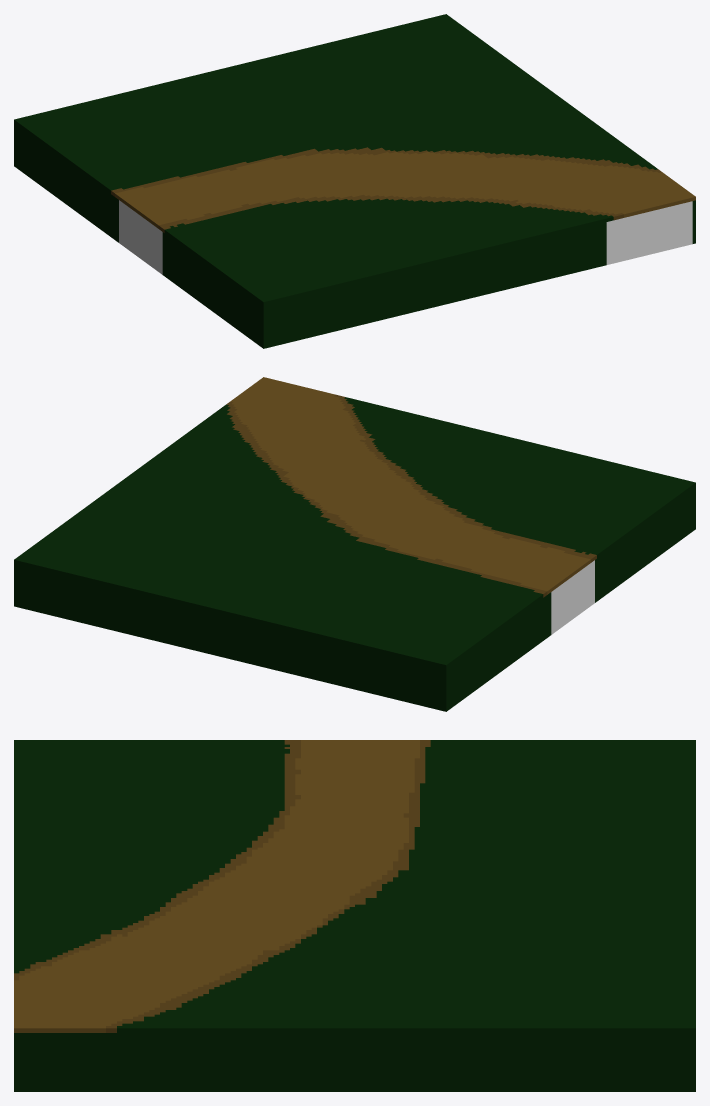
File: map-34.obj
3 renders of one model, top to bottom at view 1: azimuth 30°, elevation 25°; view 2: azimuth 150°, elevation 25°; view 3: azimuth 270°, elevation 25°, orthographic. The views are drawn at different scales.
Visible parts, largest first — view 1: map-34; view 2: map-34; view 3: map-34.
Part boxes in pixels (left/top/right/bottom): map-34: left=14, top=14, right=695, bottom=348; map-34: left=14, top=377, right=695, bottom=711; map-34: left=14, top=740, right=695, bottom=1091.
Size of the model in its own units: 126 by 13 by 126.
Materials: 1 (1 with a texture image).
